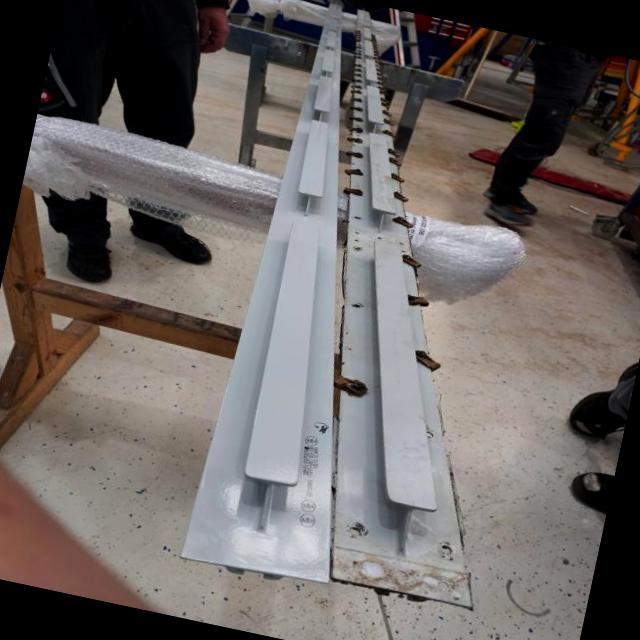Missing Fastener: (334, 516, 374, 552), (341, 212, 372, 256), (424, 534, 462, 560), (341, 293, 375, 318), (391, 236, 414, 258)
